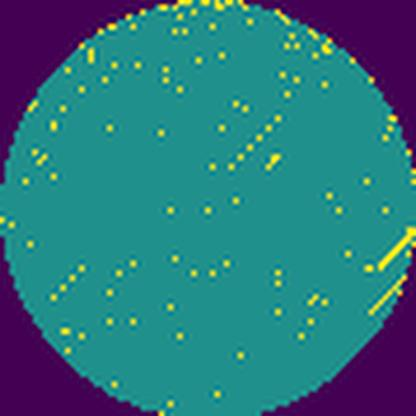Scratch: (224, 111, 288, 177), (374, 224, 416, 274), (366, 274, 408, 320)
